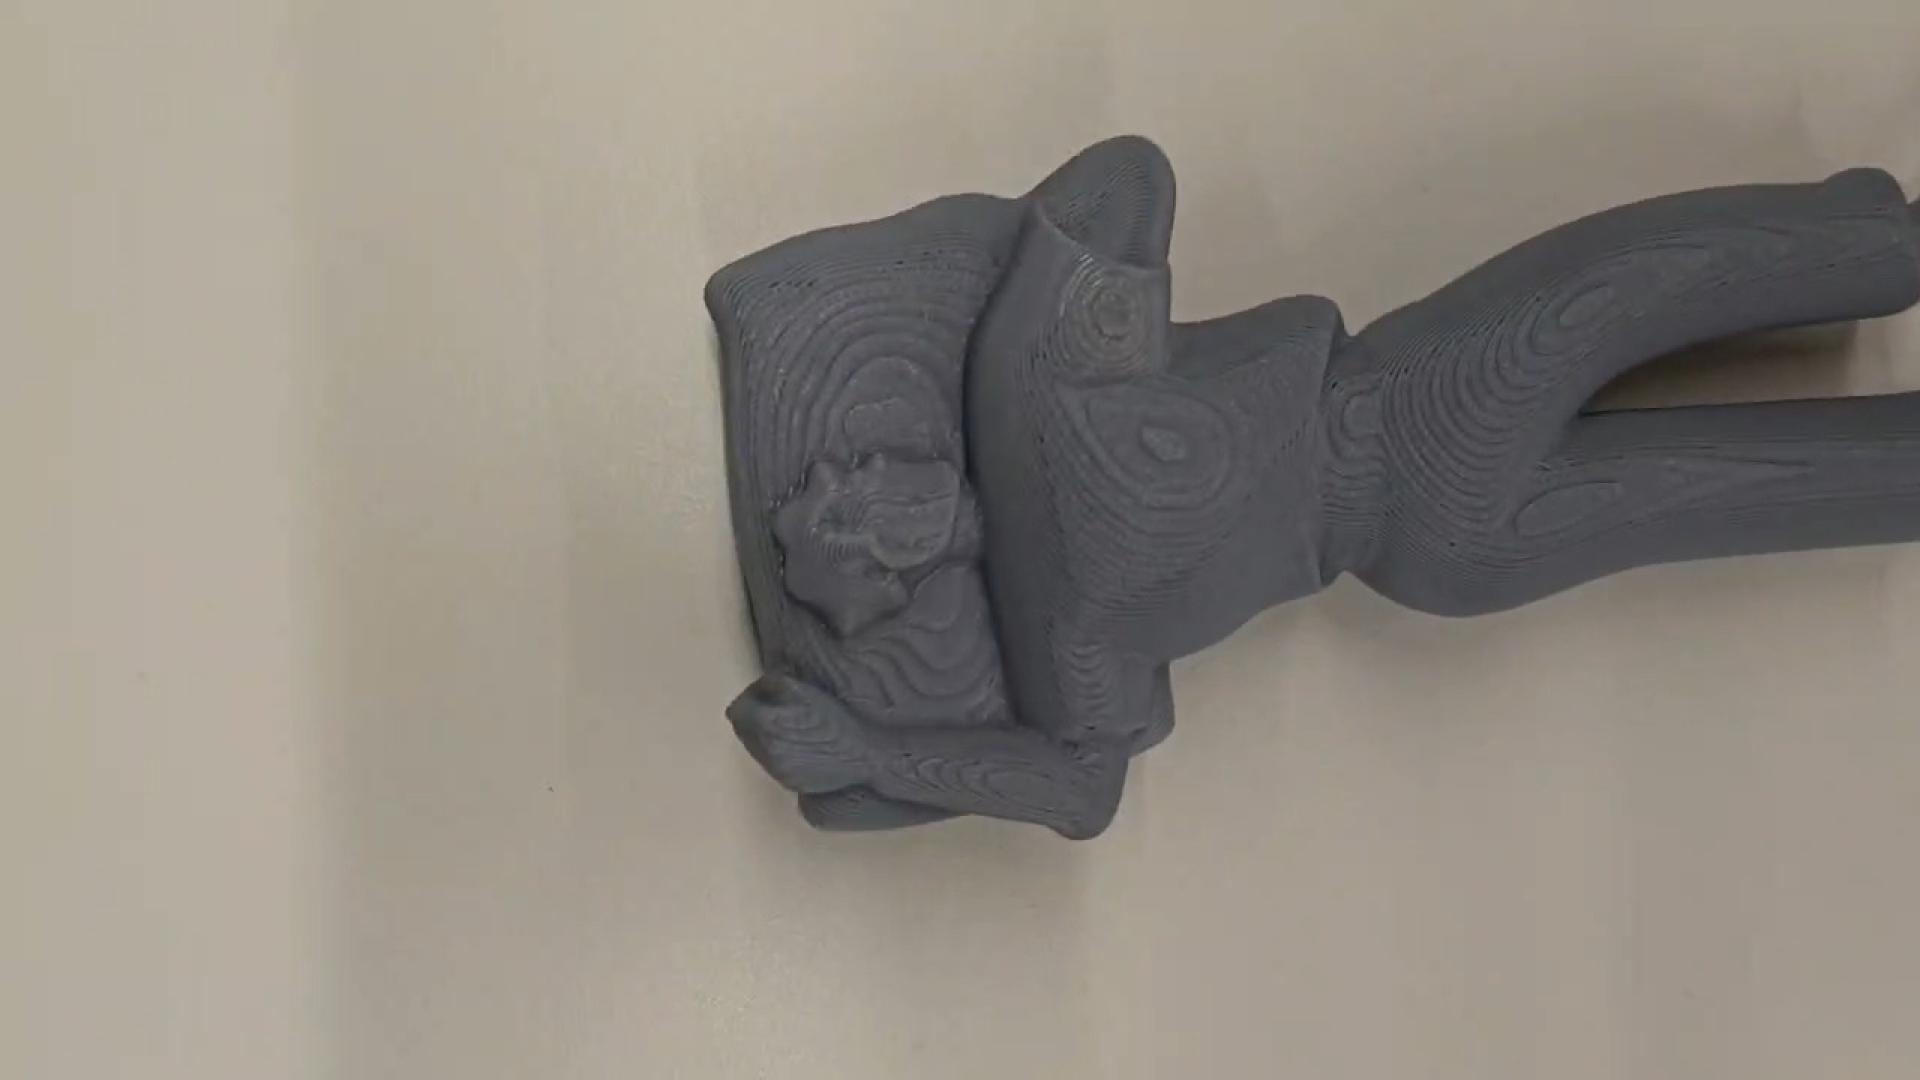Bad-style: (698, 132, 1920, 849)
